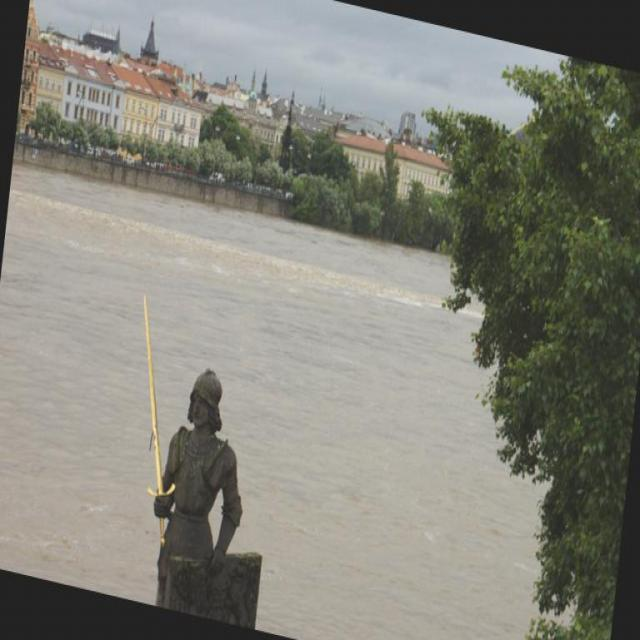flood: (0, 153, 561, 639)
